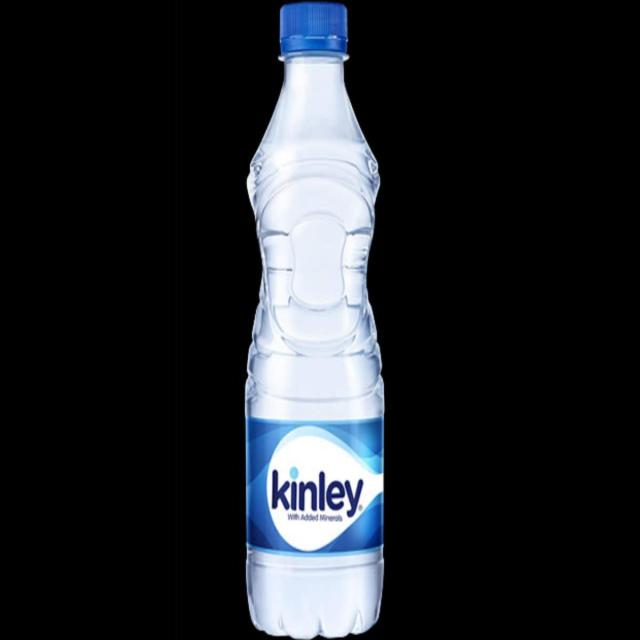bottle: (233, 0, 395, 611)
